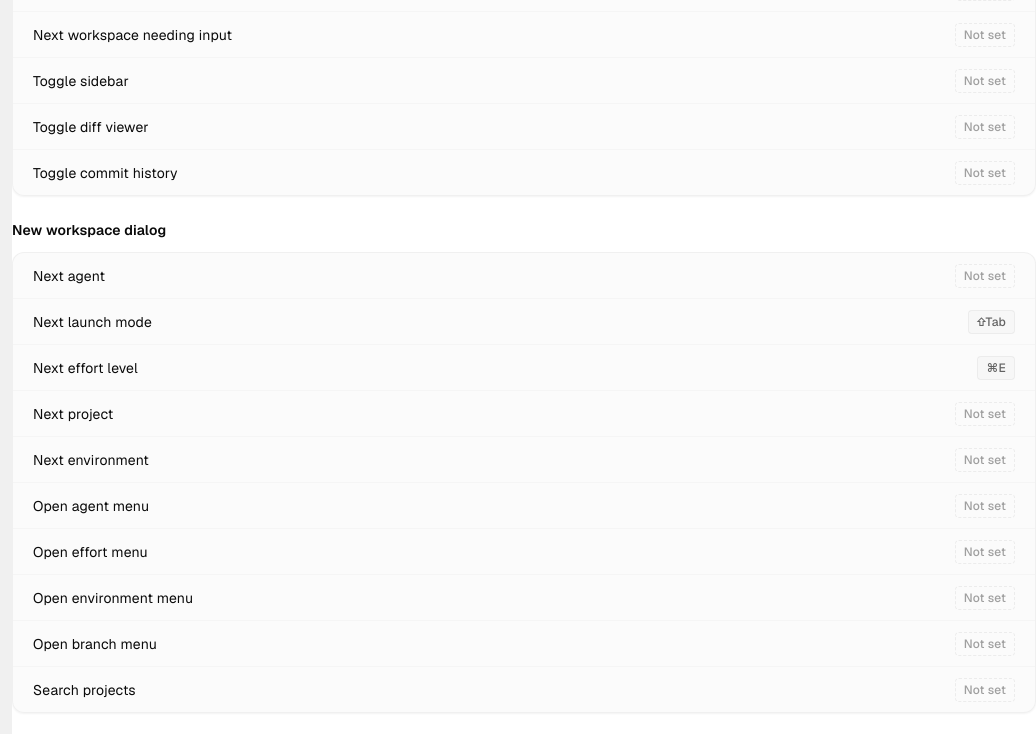
Test case: ShortcutsTab › new workspace dialog shortcuts › reuses keys from outside the dialog, but never takes New workspace
(page scrolled)
Click the button "⌘E" at (996, 368), box [978,355,1015,380]
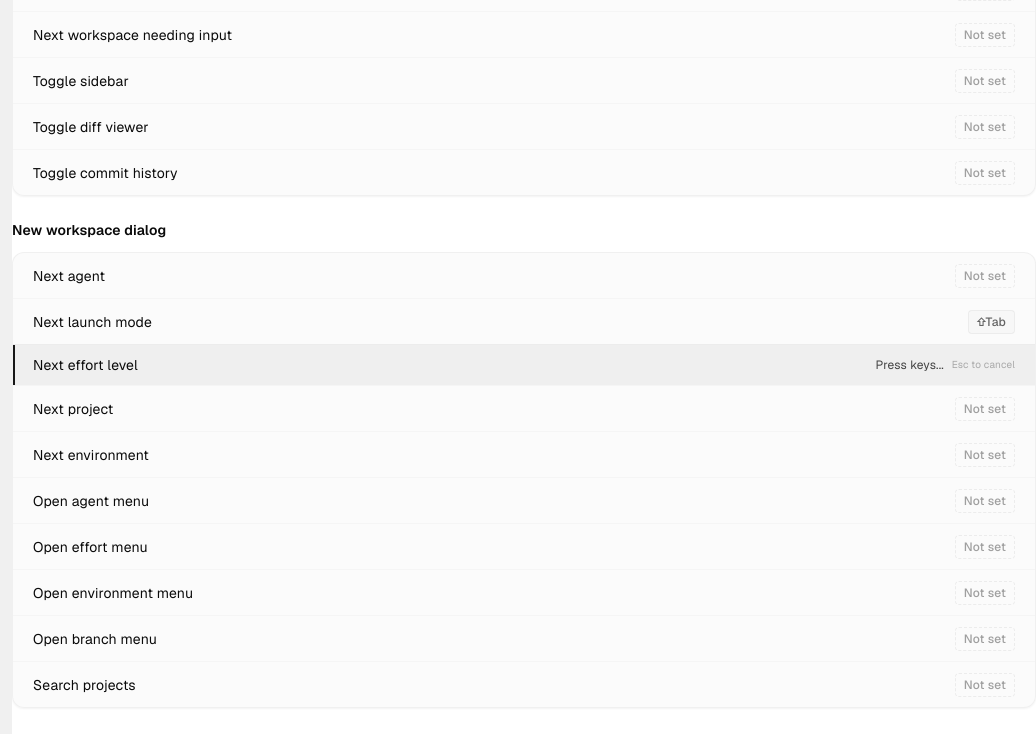
Press t
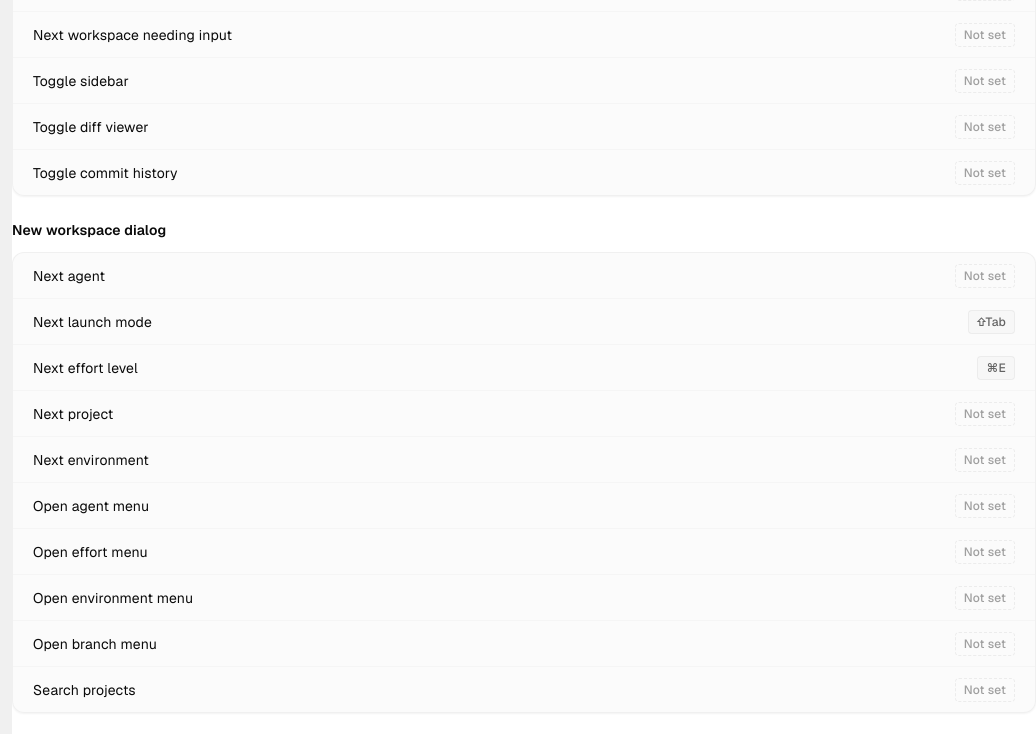
Click the button "⌘E" at (996, 368), box [978,355,1015,380]
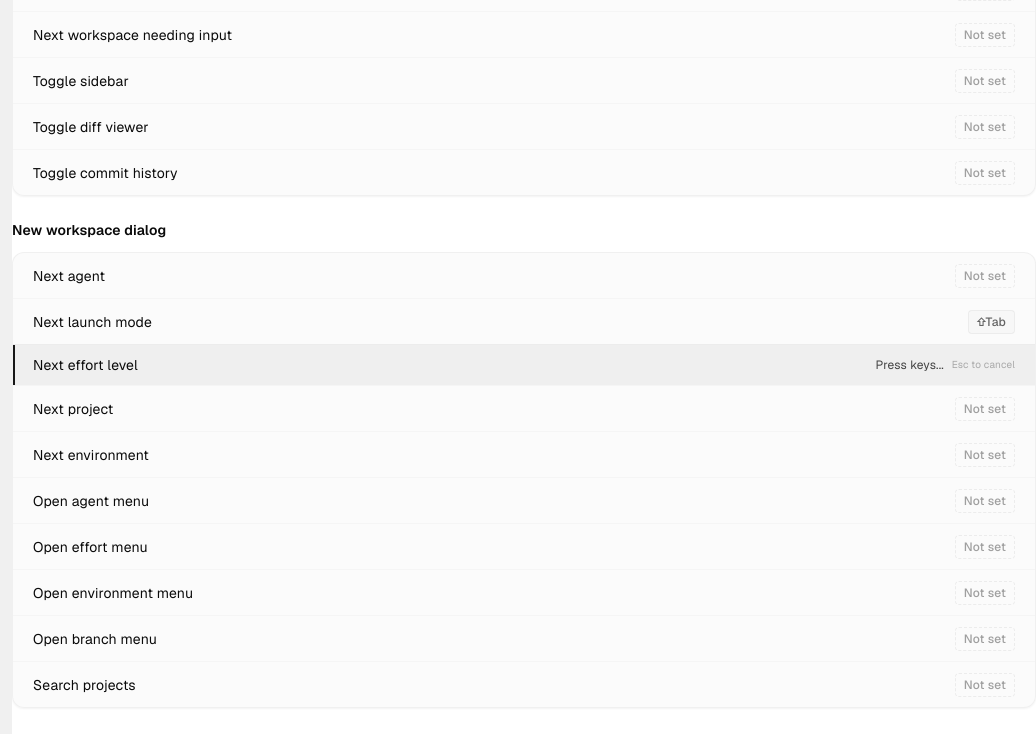
Press n
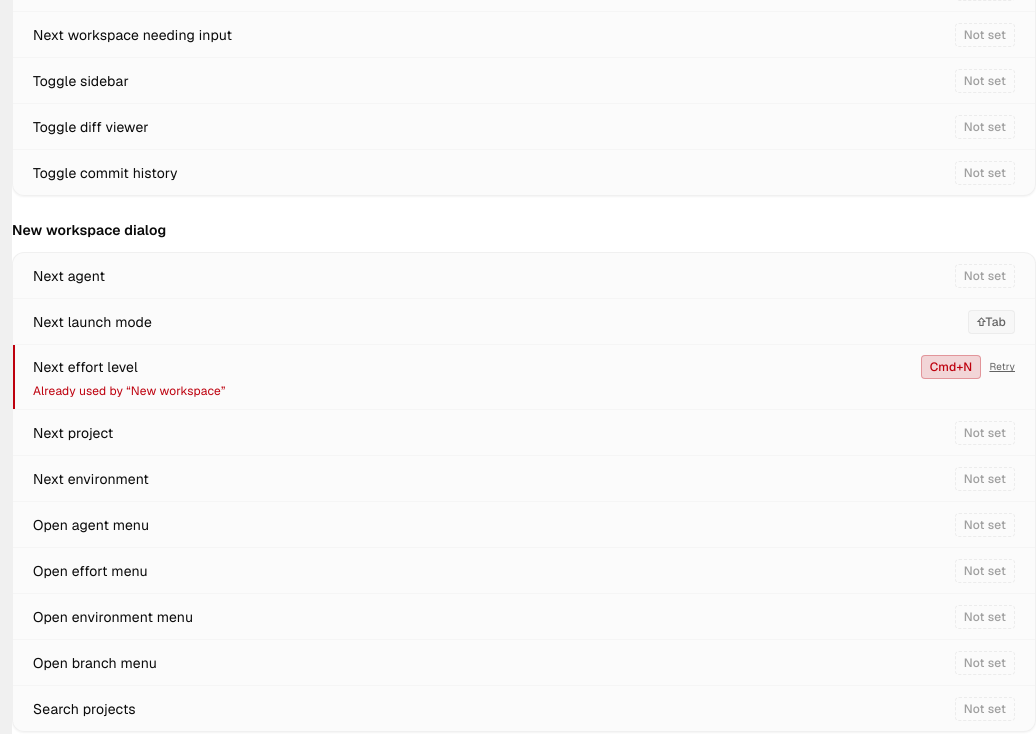
Expected: the text "Already used by “New workspace”" is shown, [33,383,226,399]
